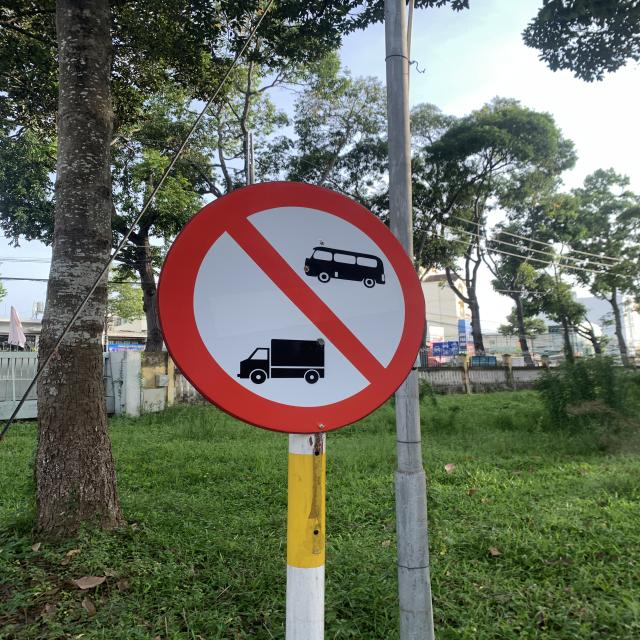Cam_XeTai_XeKhach: (160, 180, 424, 432)
